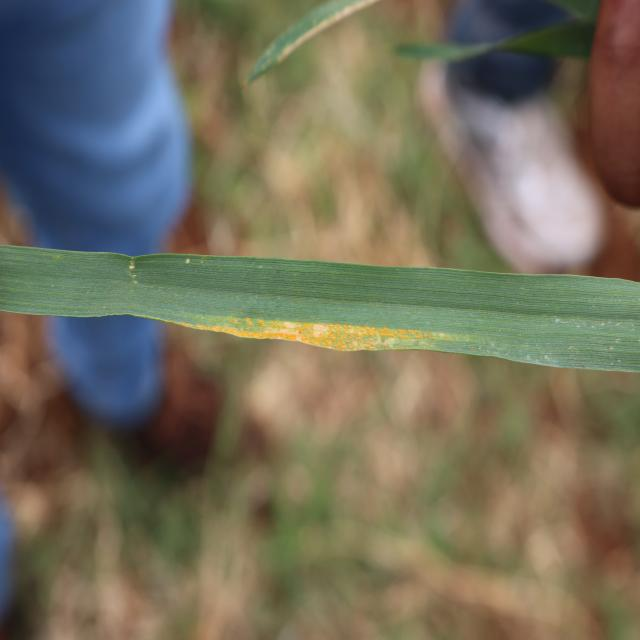Stripe Rust: (198, 311, 434, 355)
